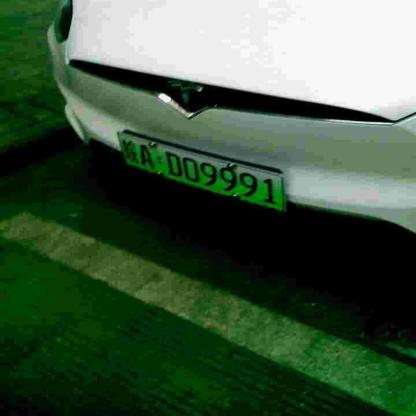lp: (117, 132, 285, 212)
